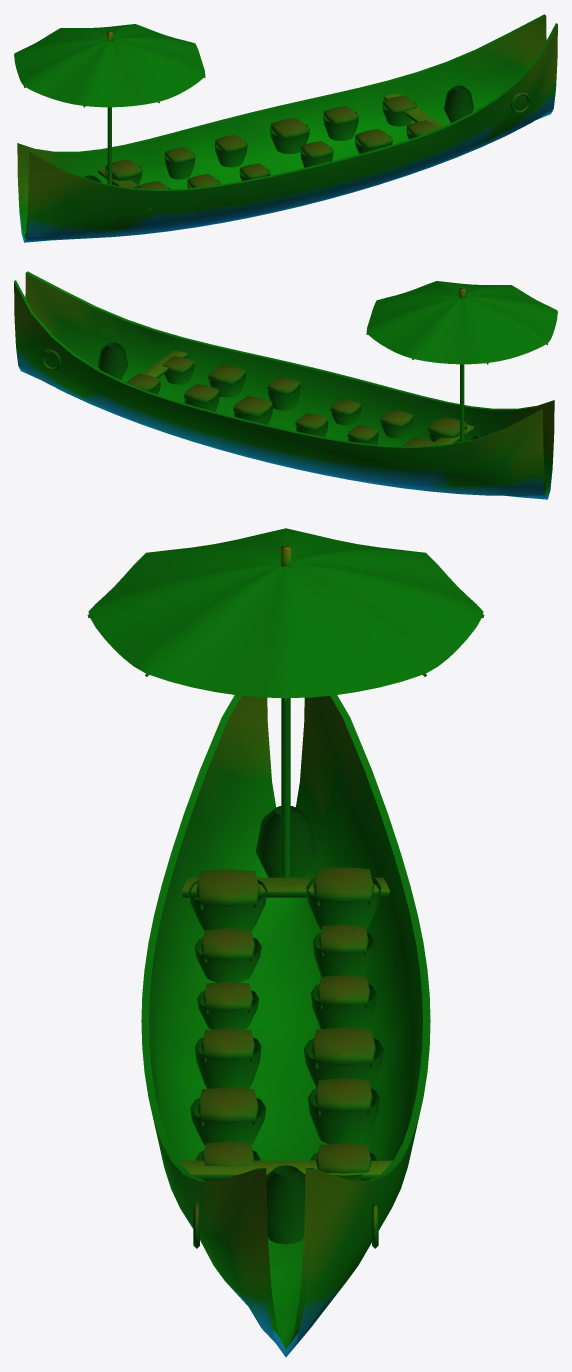
File: market_boat_a.glb
The picture shows the model from 3 angles, top to bottom: view 1: azimuth 30°, elevation 25°; view 2: azimuth 150°, elevation 25°; view 3: azimuth 270°, elevation 25°; orthographic projection. The views are drawn at different scales.
Visible parts, largest first — view 1: market_boat_a; view 2: market_boat_a; view 3: market_boat_a.
Boxes of the visible parts, bbox=[...] form: market_boat_a: bbox=[14, 14, 557, 242]; market_boat_a: bbox=[14, 271, 557, 499]; market_boat_a: bbox=[87, 528, 484, 1357].
Size of what is drawn, in the model's own units: 8 by 3.07 by 2.61.
